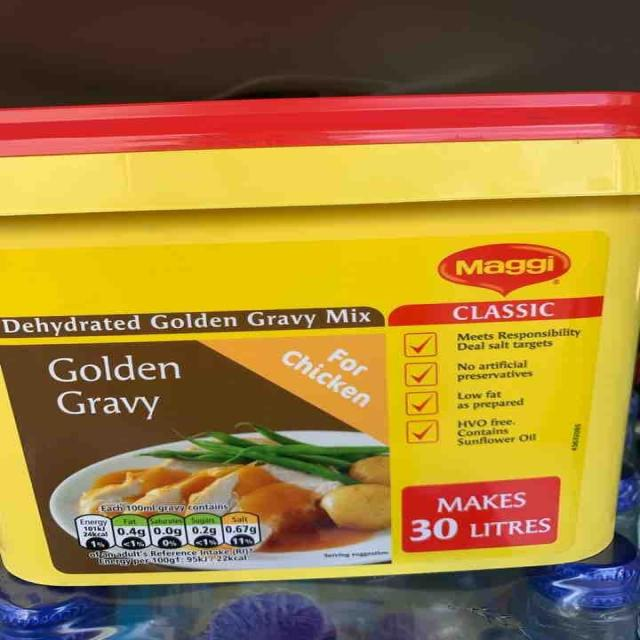plastic: (0, 97, 640, 588)
